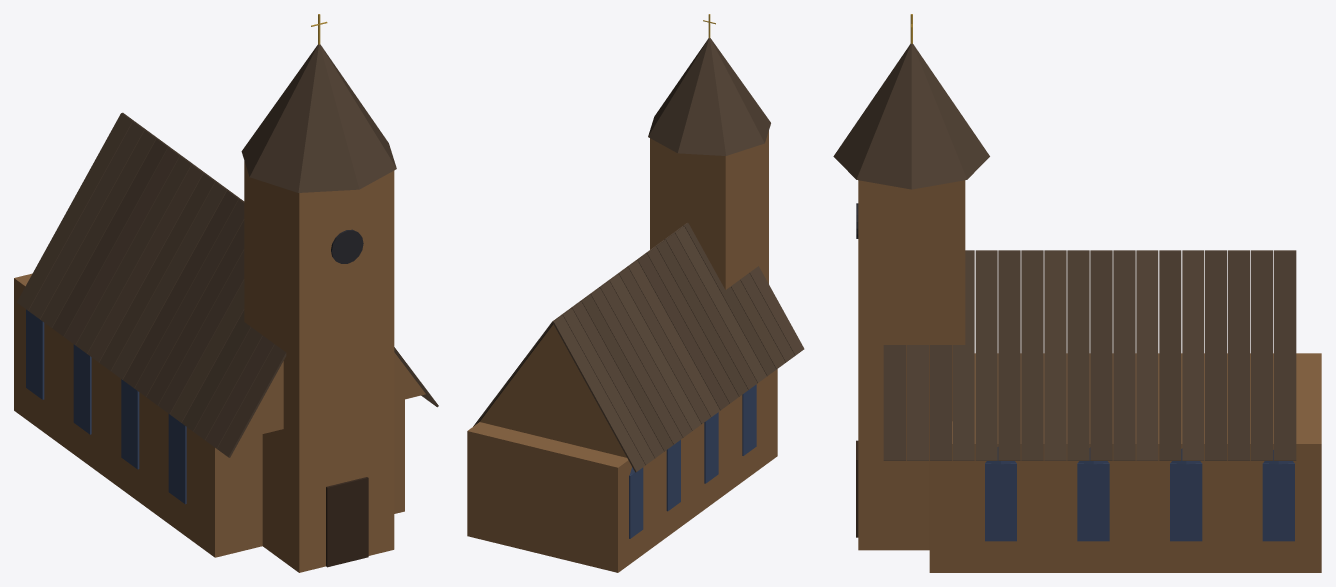
Rendered from church_1.glb.
3 renders of one model, left to right at view 1: azimuth 30°, elevation 25°; view 2: azimuth 150°, elevation 25°; view 3: azimuth 270°, elevation 25°, orthographic. The views are drawn at different scales.
Visible parts, largest first — view 1: church1_wood, church1_tiles, church1_glass; view 2: church1_wood, church1_tiles, church1_glass; view 3: church1_tiles, church1_wood, church1_glass.
Boxes of the visible parts, left/top/right/bottom form: church1_wood: left=14, top=161, right=425, bottom=572; church1_tiles: left=17, top=44, right=438, bottom=457; church1_glass: left=26, top=229, right=363, bottom=504; church1_wood: left=467, top=131, right=777, bottom=572; church1_tiles: left=473, top=38, right=804, bottom=472; church1_glass: left=629, top=384, right=756, bottom=538; church1_tiles: left=833, top=43, right=1296, bottom=460; church1_wood: left=856, top=180, right=1321, bottom=572; church1_glass: left=856, top=203, right=1294, bottom=541.
Bounding box in the file's own units: 6.65 × 15.9 × 13.7.
